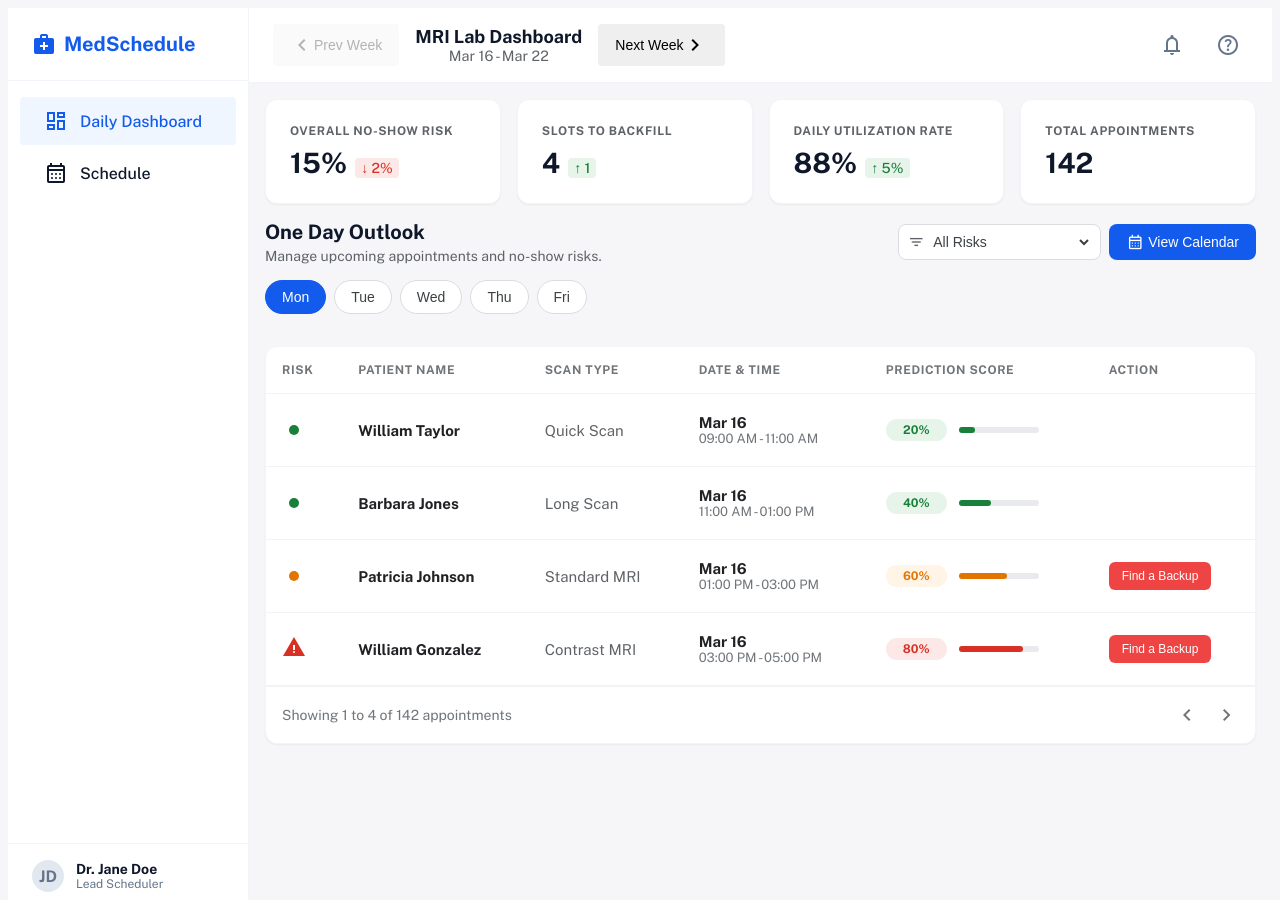
Test: opens inline email draft when selecting a backup patient
The image size is (1280, 900).
Click the button "Find a Backup" in the row of "Patricia Johnson": (1160, 576) [1109,562,1211,590]
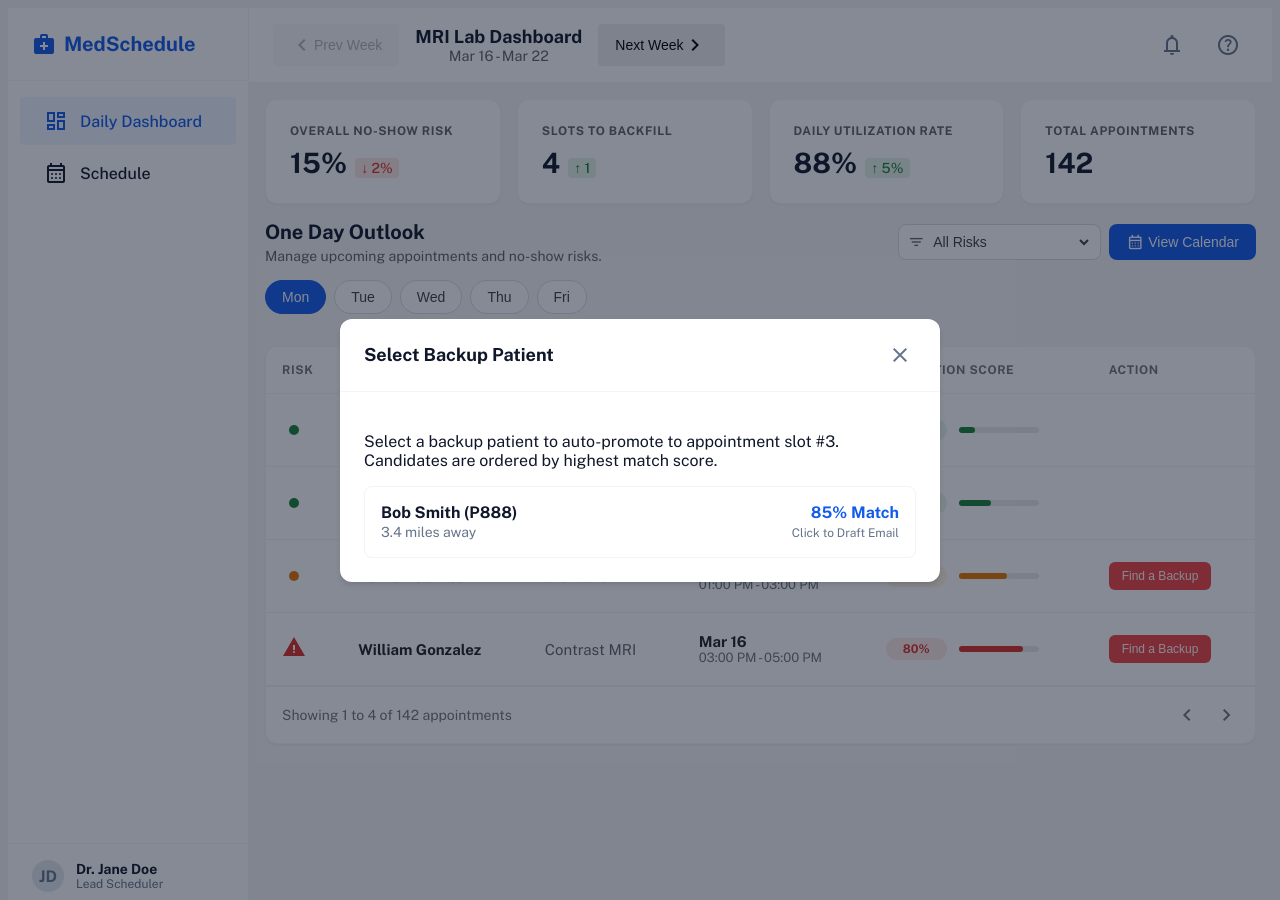
Now the heading "Select Backup Patient" is shown, box [364,344,554,365]
Now the text "Bob Smith (P888)" is shown
Click the text "Bob Smith (P888)": (449, 512) [381,502,517,522]
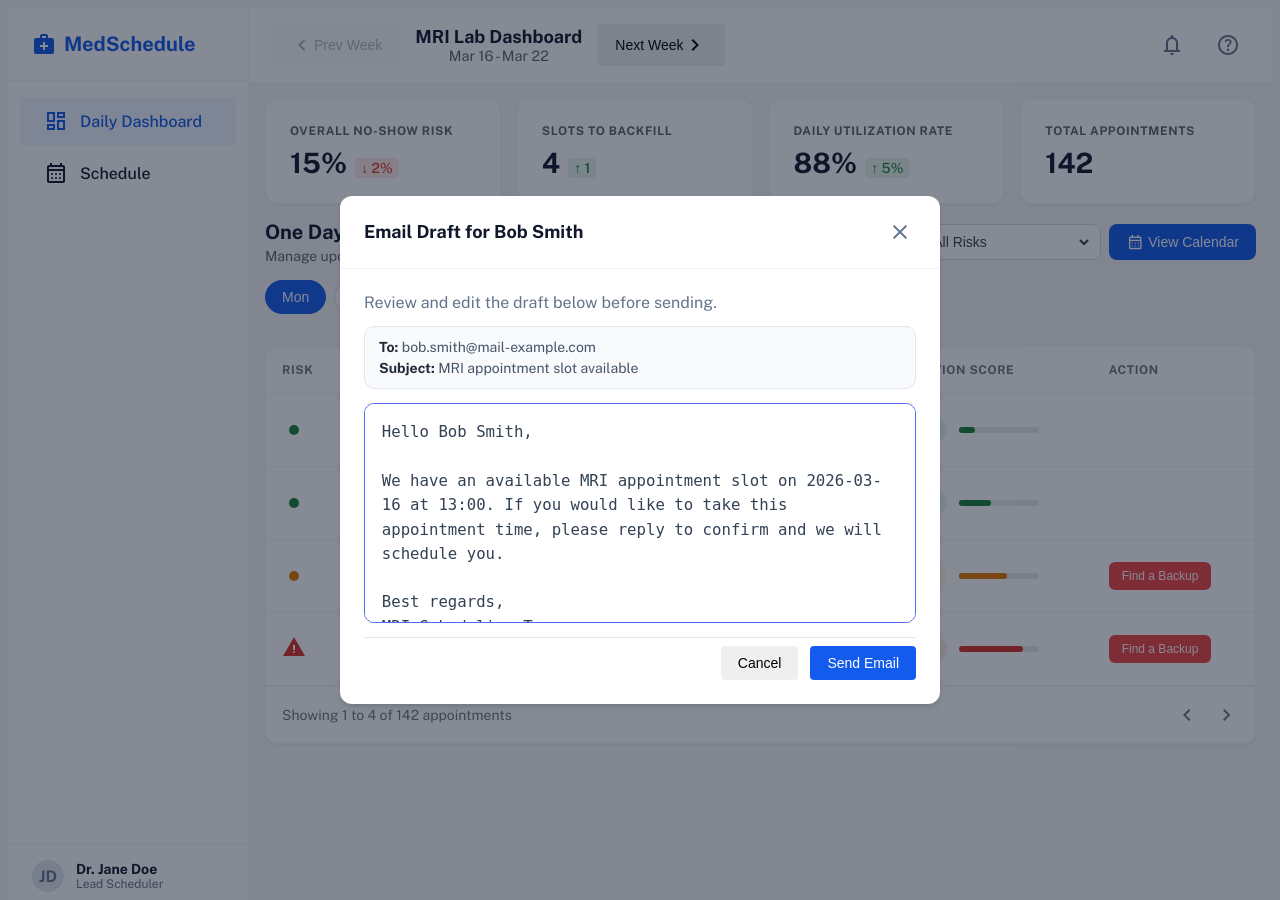
Now the heading "Email Draft for Bob Smith" is shown, box [364,221,583,242]
Now the text "Review and edit the draft below before sending." is shown, box [364,293,717,312]
Now the text box showing "We have an available MRI appointment slot on" is shown, box [364,403,916,623]
